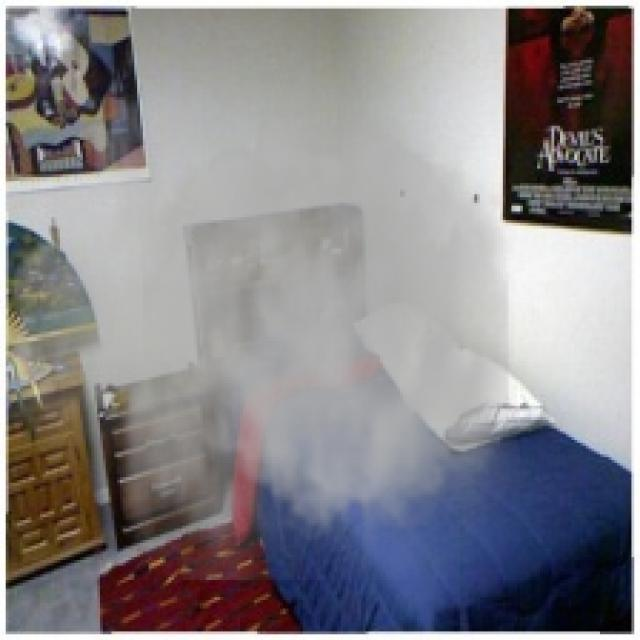Smoke: (6, 26, 540, 580)
